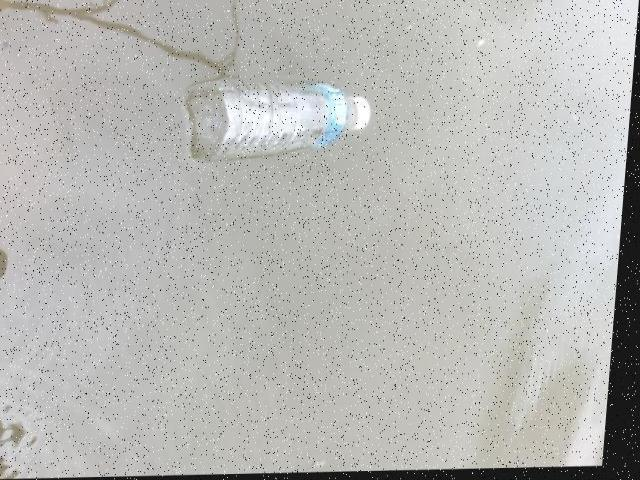Bottle: (200, 85, 370, 159)
